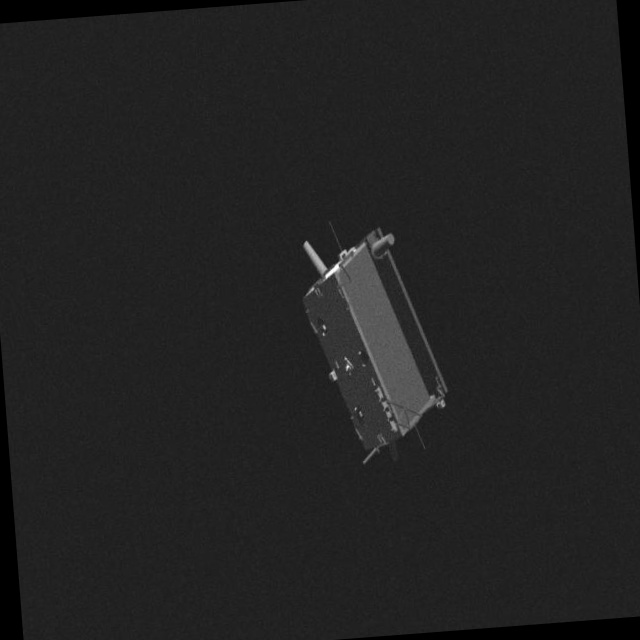satellite: (286, 206, 465, 470)
